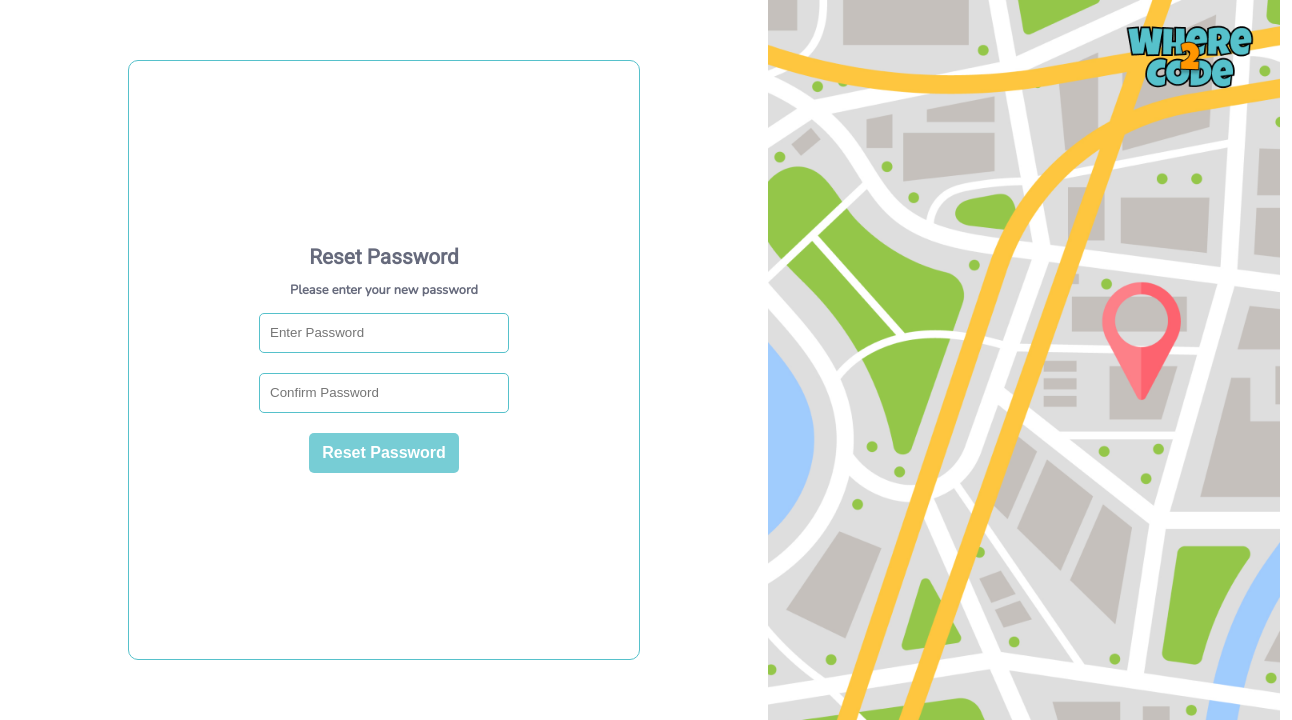
Test: Reset Password tests › display an error message if validation don't pass › test password validation
In the password field with placeholder "Enter Password": (384, 333) [259,313,509,353], type "giacomo1"
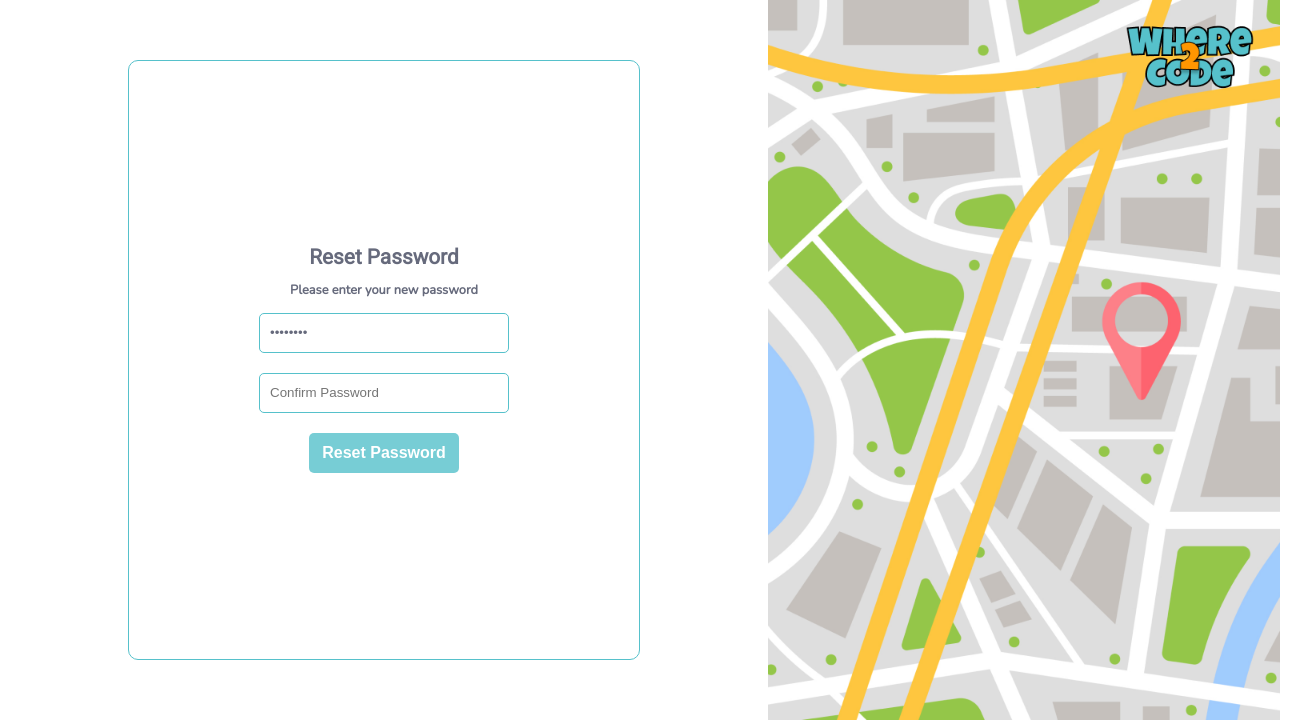
In the password field with placeholder "Confirm Password": (384, 393) [259,373,509,413], type "giacomo2"
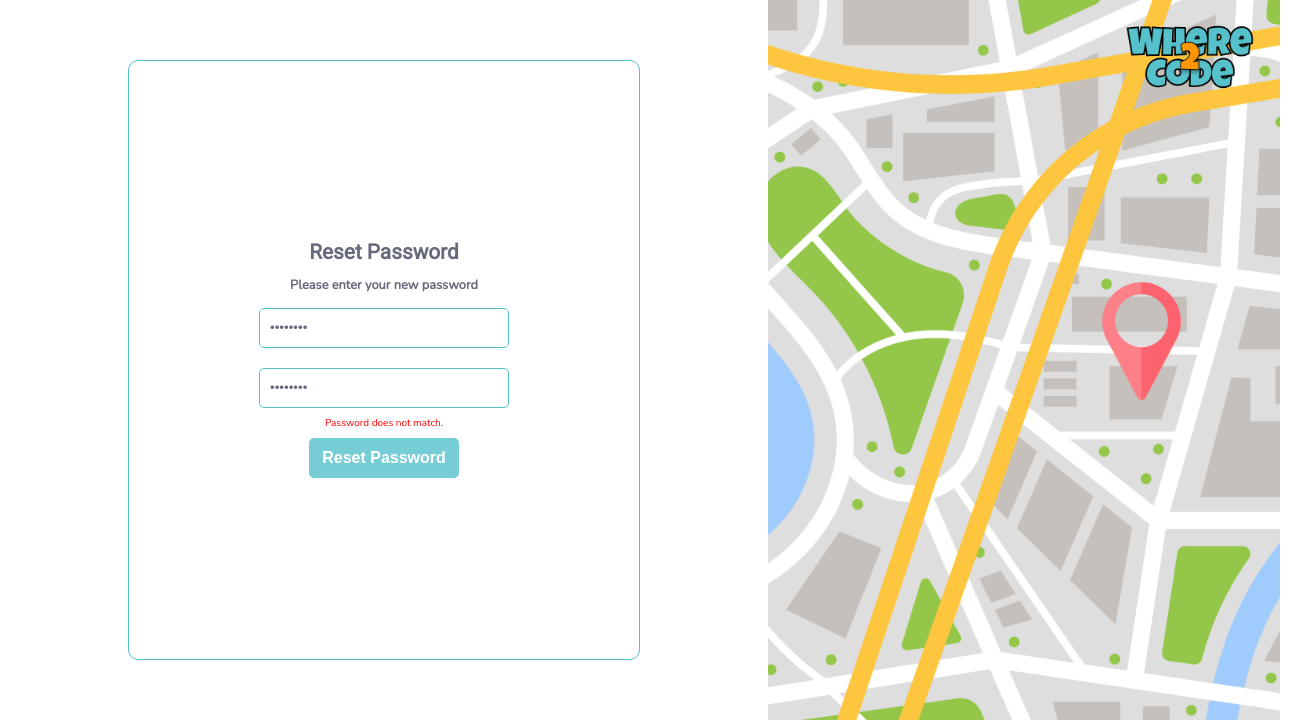
Expected: the text "Password does not match." is shown, [325,418,443,428]
